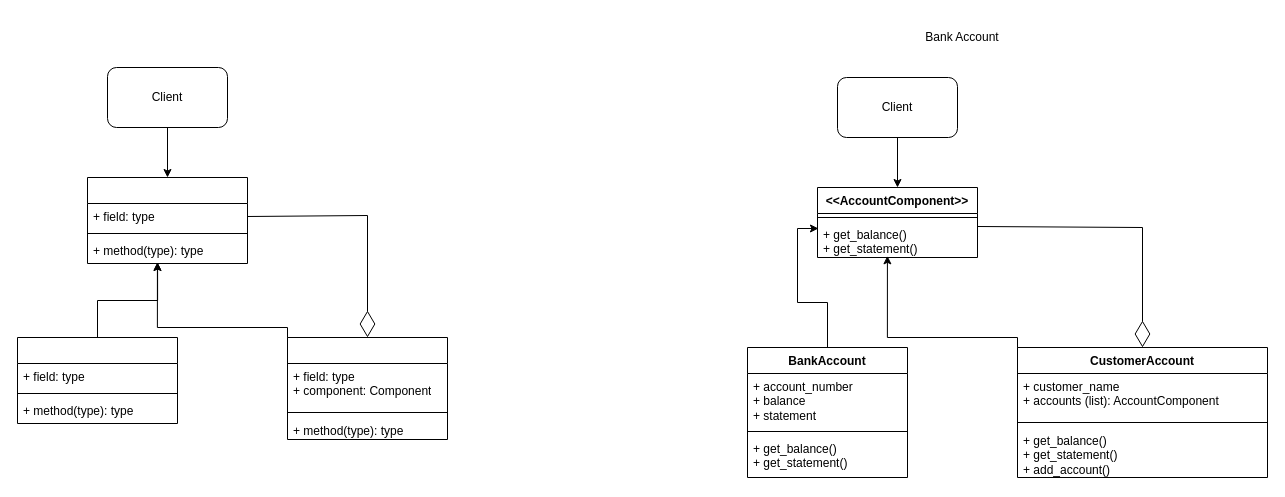
This 1285x497 diagram has some shape labels left out. Here are the shapes that lost their labels. From the top down, the box of each, then its label:
(86, 176, 248, 264): <<Component>>
(16, 336, 178, 424): Leaf
(286, 336, 448, 440): Composite
